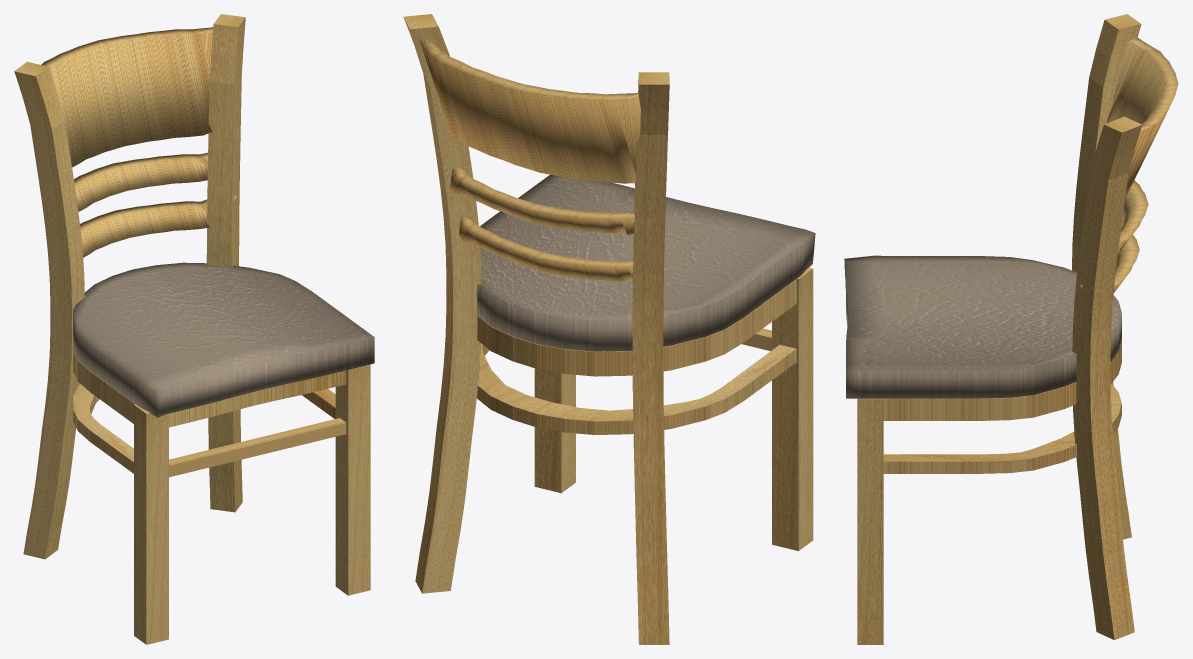
Rendered from Indoor_Chair.fbx.
3 views of the same model, side by side, from view 1: azimuth 30°, elevation 25°; view 2: azimuth 150°, elevation 25°; view 3: azimuth 270°, elevation 25° (orthographic). The views are drawn at different scales.
Visible parts, largest first — view 1: Plane.004, Plane.005; view 2: Plane.004, Plane.005; view 3: Plane.004, Plane.005.
Part boxes in pixels (left/top/right/bottom): Plane.004: left=14, top=14, right=370, bottom=644; Plane.005: left=73, top=262, right=374, bottom=417; Plane.004: left=403, top=14, right=813, bottom=644; Plane.005: left=477, top=174, right=815, bottom=351; Plane.004: left=857, top=14, right=1178, bottom=644; Plane.005: left=844, top=255, right=1121, bottom=398.
Size of the model in its own units: 208 by 417 by 247.
Materials: 2 (2 with a texture image).
